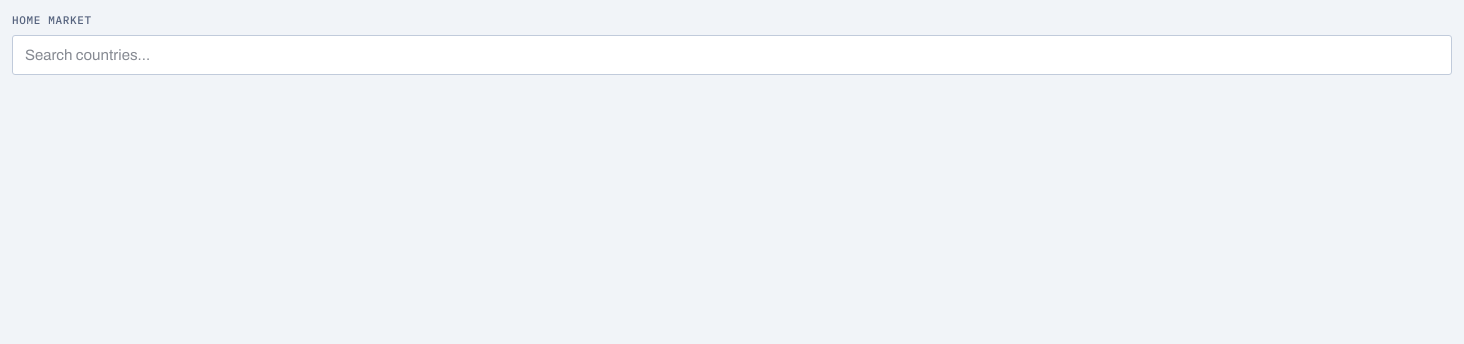
CountrySelect › shows every country until the user types a filter
Focus the dropdown labelled "Home market": (732,55) top-left (12, 34), bottom-right (1452, 75)
(page scrolled)
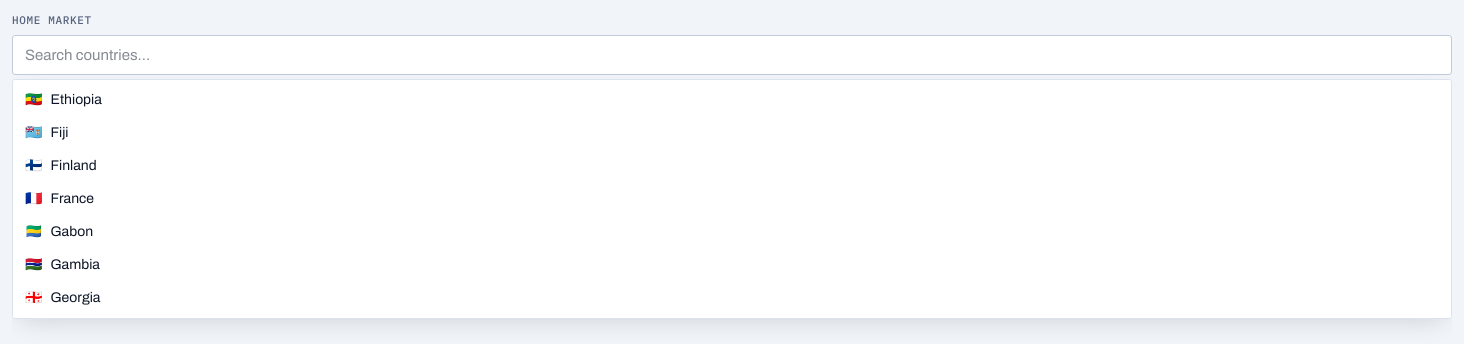
Expected: the option "🇫🇷 France" is shown, top-left (25, 191), bottom-right (94, 206)
